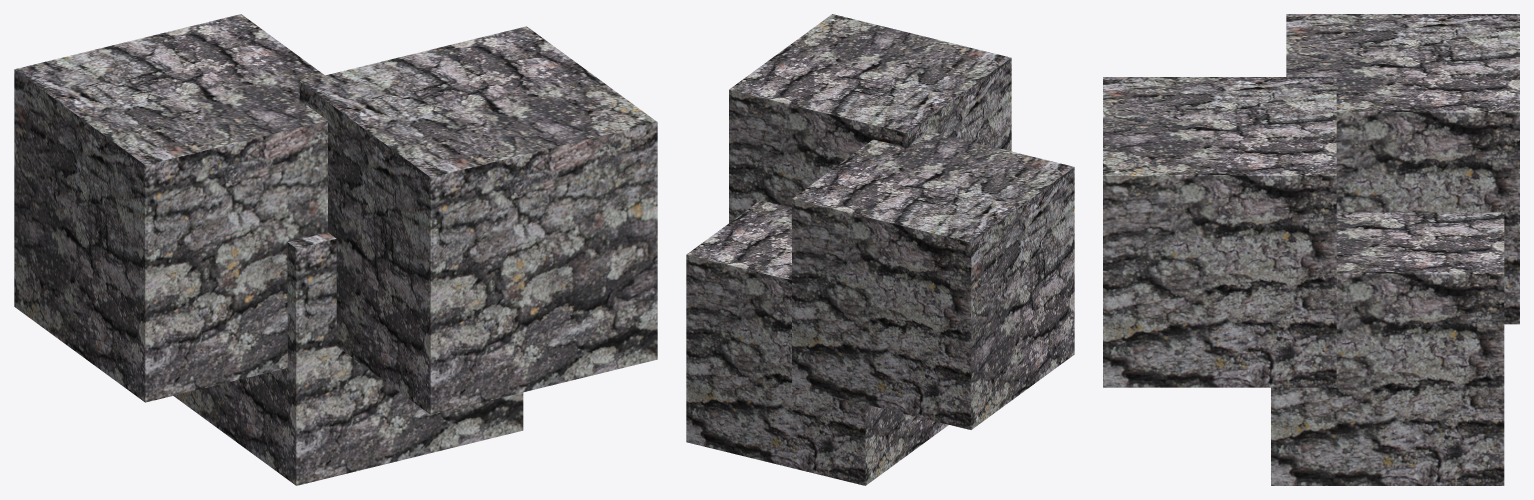
Rendered from cubes_textured.gltf.
3 renders of one model, left to right at view 1: azimuth 30°, elevation 25°; view 2: azimuth 150°, elevation 25°; view 3: azimuth 270°, elevation 25°, orthographic. The views are drawn at different scales.
Visible parts, largest first — view 1: Cube, Cube.001, Cube.002; view 2: Cube.001, Cube, Cube.002; view 3: Cube, Cube.002, Cube.001.
Boxes of the visible parts, bbox=[...] form: Cube: bbox=[299, 26, 657, 414]; Cube.001: bbox=[14, 14, 327, 402]; Cube.002: bbox=[173, 232, 523, 485]; Cube.001: bbox=[792, 131, 1074, 429]; Cube: bbox=[729, 14, 1011, 222]; Cube.002: bbox=[686, 200, 948, 485]; Cube: bbox=[1103, 77, 1336, 387]; Cube.002: bbox=[1271, 212, 1504, 485]; Cube.001: bbox=[1286, 14, 1519, 324].
Size of the model in its own units: 3.61 by 3.1 by 3.57.
Materials: 1 (1 with a texture image).
